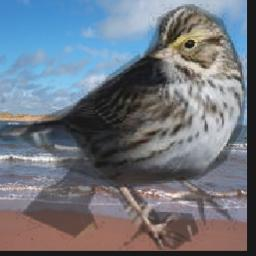Sparrow: (0, 5, 247, 251)
